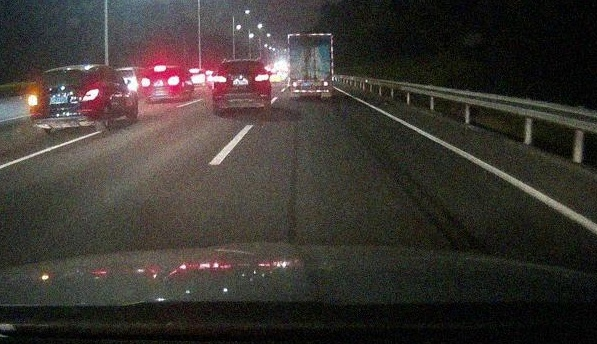L_light: (28, 95, 38, 107), (213, 76, 227, 82), (141, 78, 150, 87), (292, 82, 302, 86)
R_light: (82, 88, 100, 102), (168, 76, 180, 86), (255, 74, 269, 81), (318, 81, 328, 86)
T_light: (153, 65, 166, 72), (59, 69, 74, 73), (237, 61, 247, 63), (305, 35, 314, 37)
night-brake: (141, 64, 183, 102)
night-left: (27, 67, 104, 134)
night-no: (287, 33, 335, 100), (213, 59, 271, 111)
